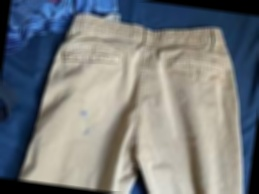ink: (82, 126, 91, 138), (78, 108, 88, 116)
